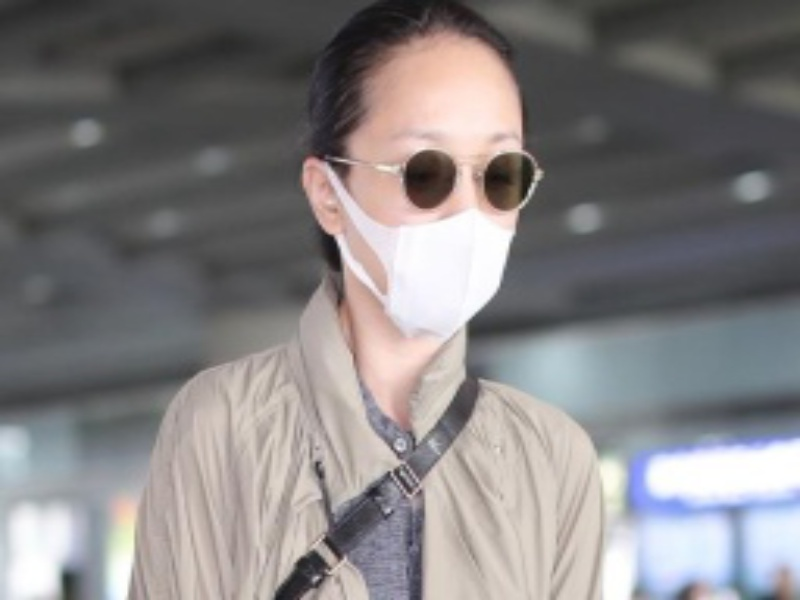ManaoArotava: (290, 44, 552, 369)
